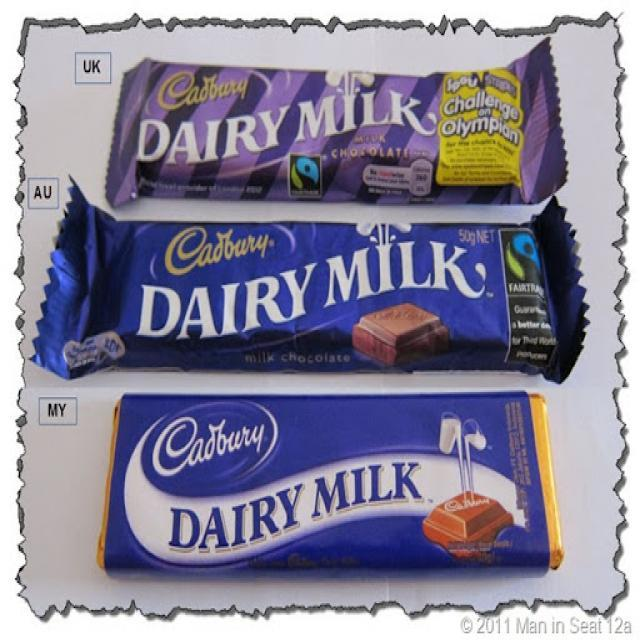cadbury_chocolate: (45, 213, 587, 367), (111, 400, 576, 573), (118, 52, 567, 200)
